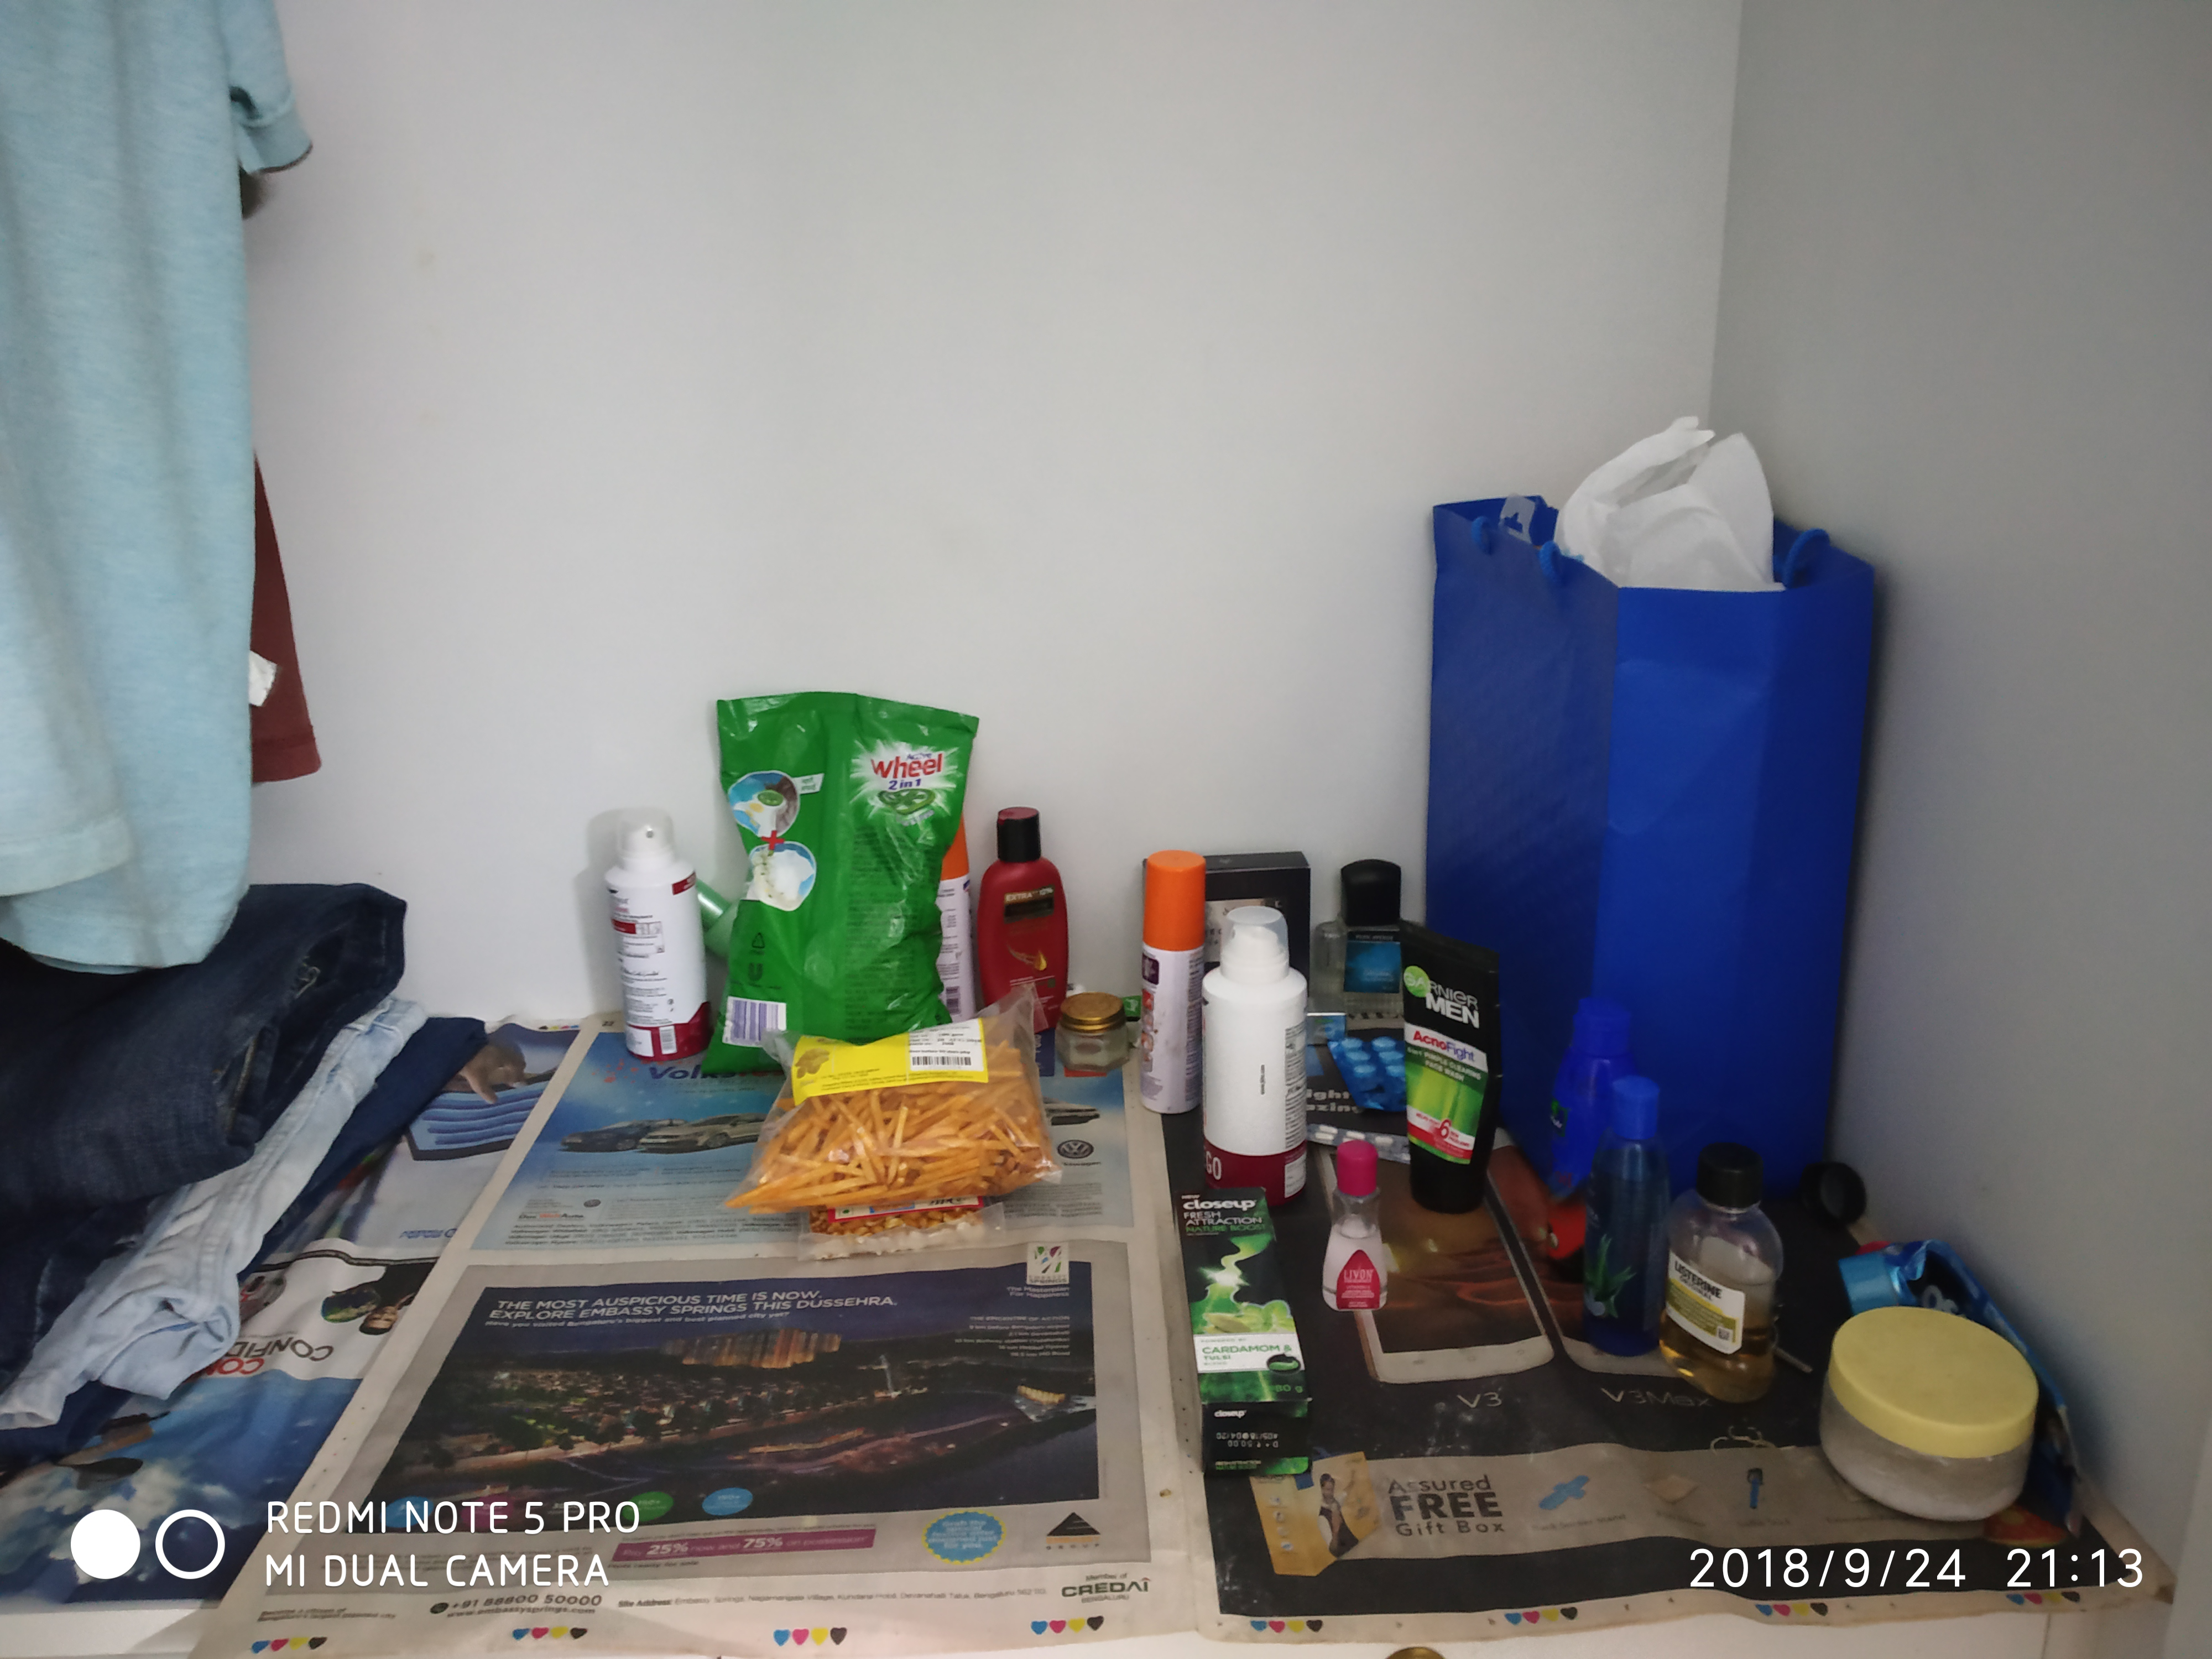detergent: (717, 682, 965, 1043)
